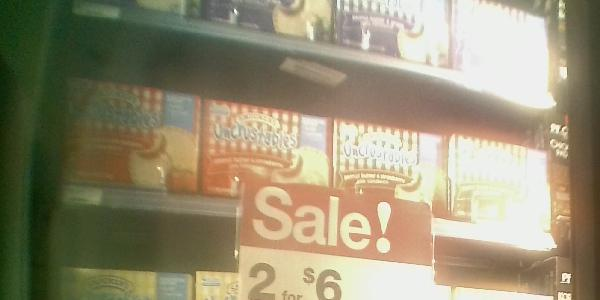icecream: (59, 73, 204, 201), (205, 95, 336, 219), (335, 117, 449, 231), (447, 133, 558, 236)
